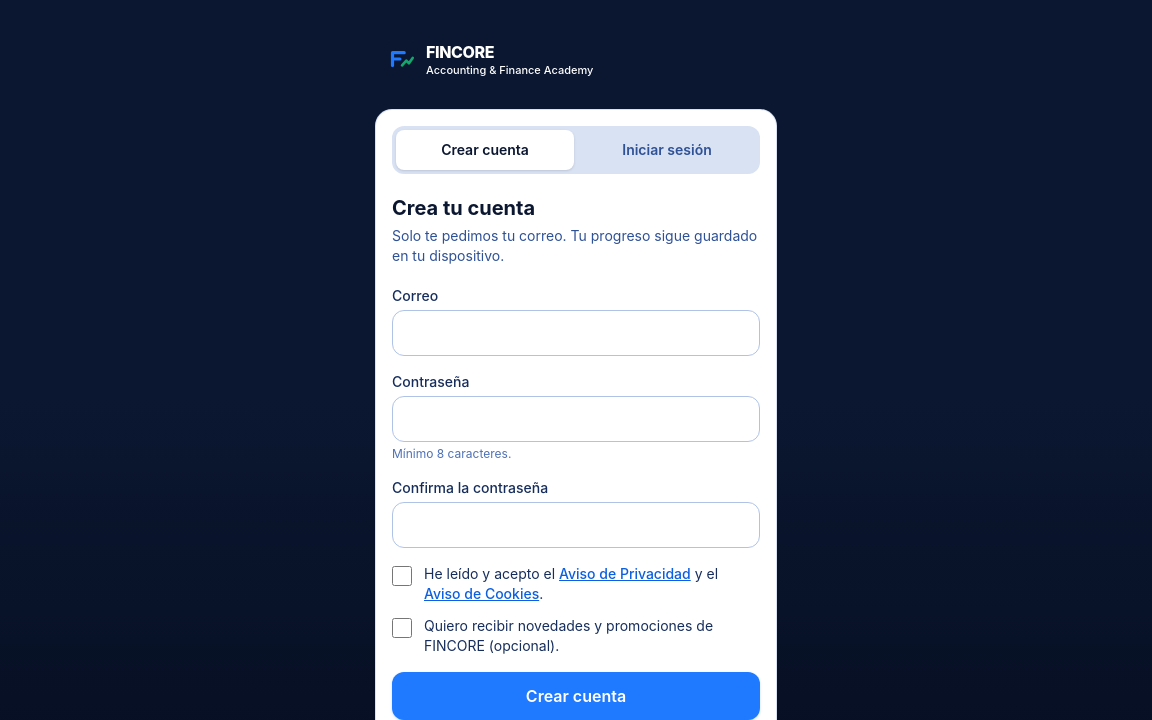
AuthScreen › sign in shows a friendly error on wrong credentials
Step 1. Click the tab "Iniciar sesión" → point(667, 150), box x1=578 y1=130 x2=756 y2=170
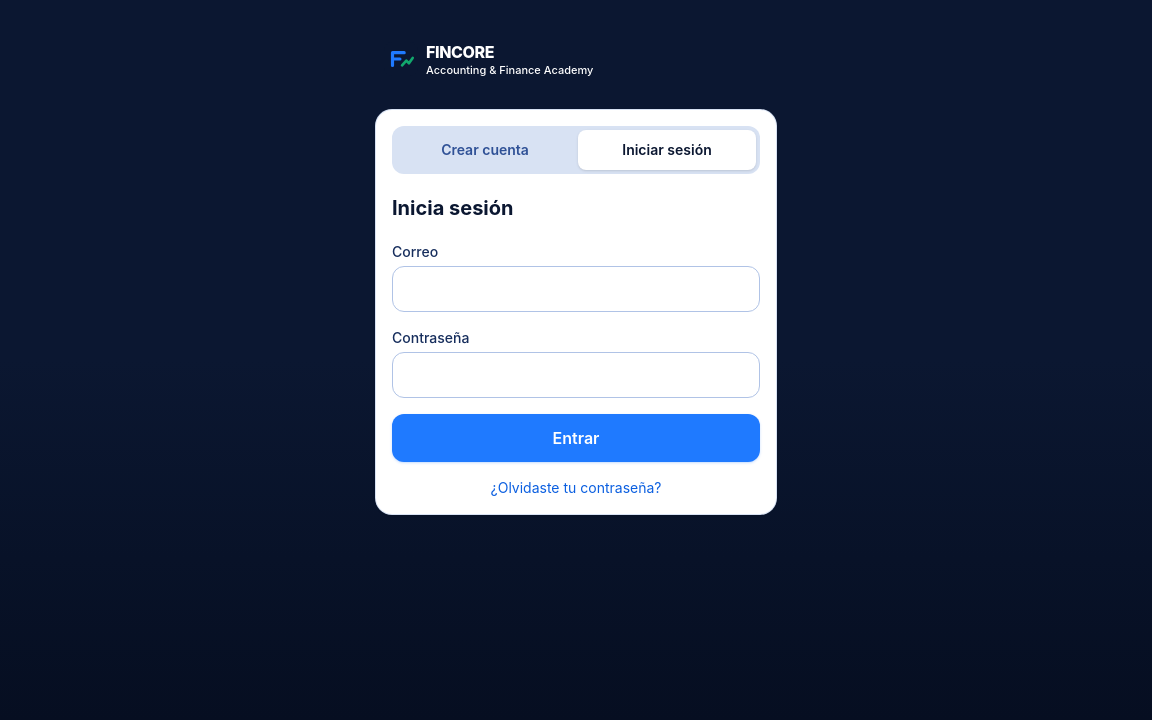
Step 2. Type "ana@example.com" into the field labelled "Correo" → point(576, 289), box x1=392 y1=266 x2=760 y2=312
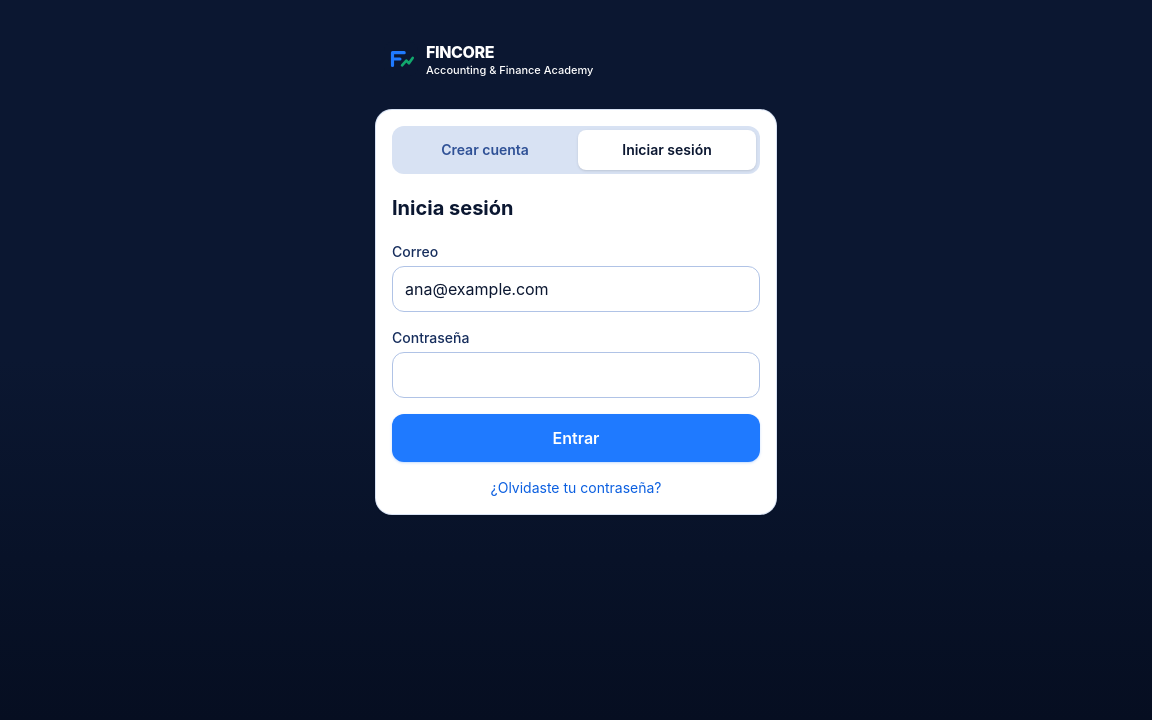
Step 3. Type "secreta123" into the password field labelled "Contraseña" → point(576, 375), box x1=392 y1=352 x2=760 y2=398
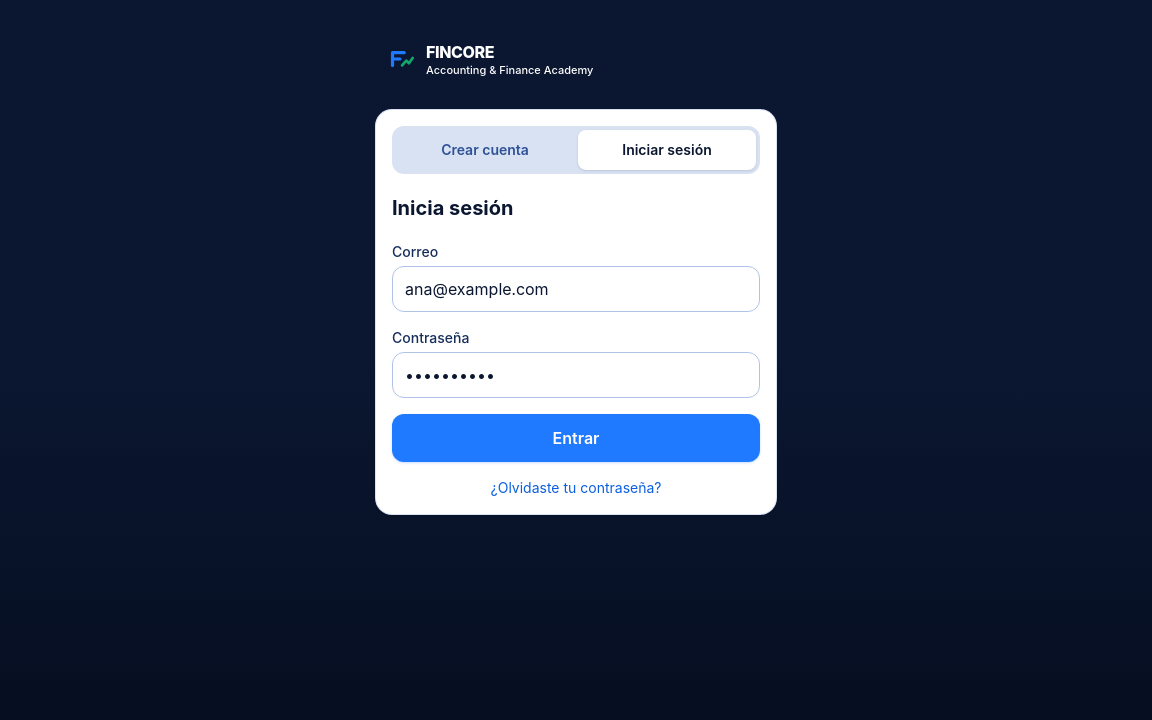
Step 4. Click the button "Entrar" → point(576, 438), box x1=392 y1=414 x2=760 y2=462
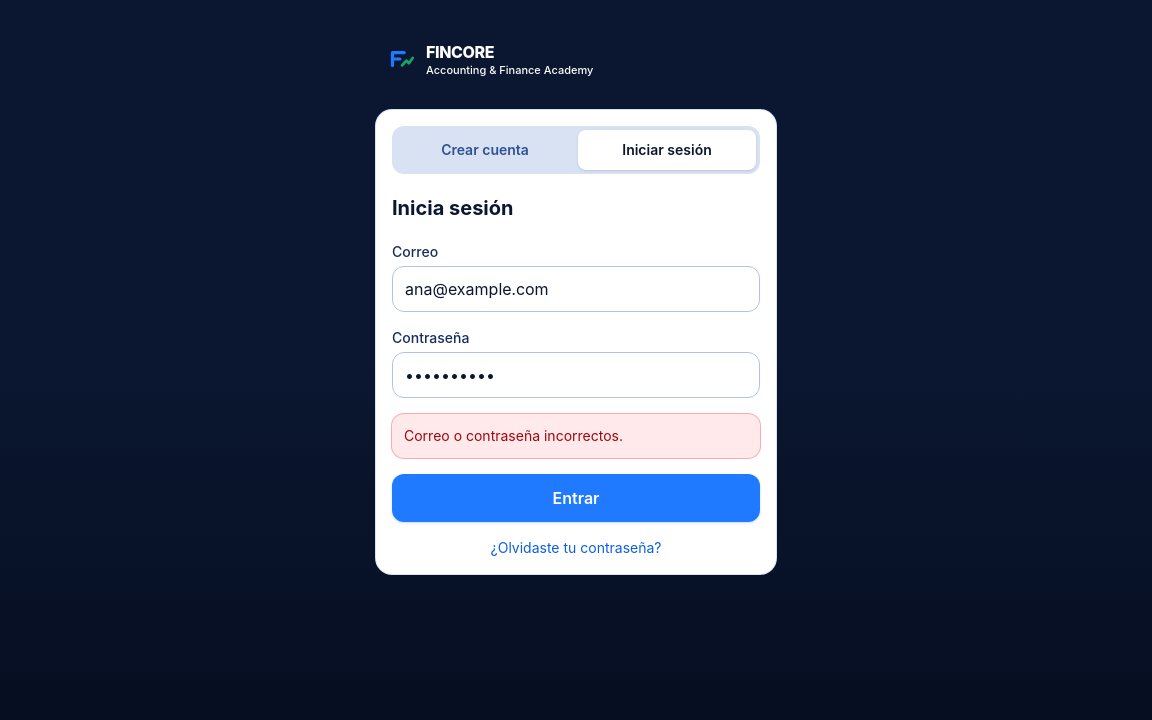
Expected: the text "Correo o contraseña incorrectos." is shown, x1=392 y1=414 x2=760 y2=458
